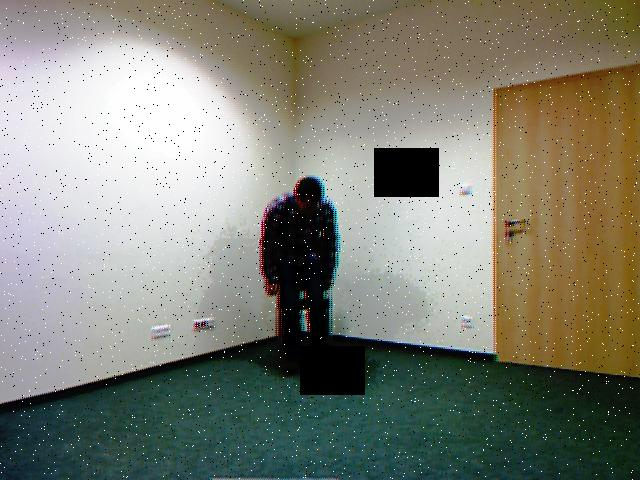bending: (257, 168, 357, 401)
